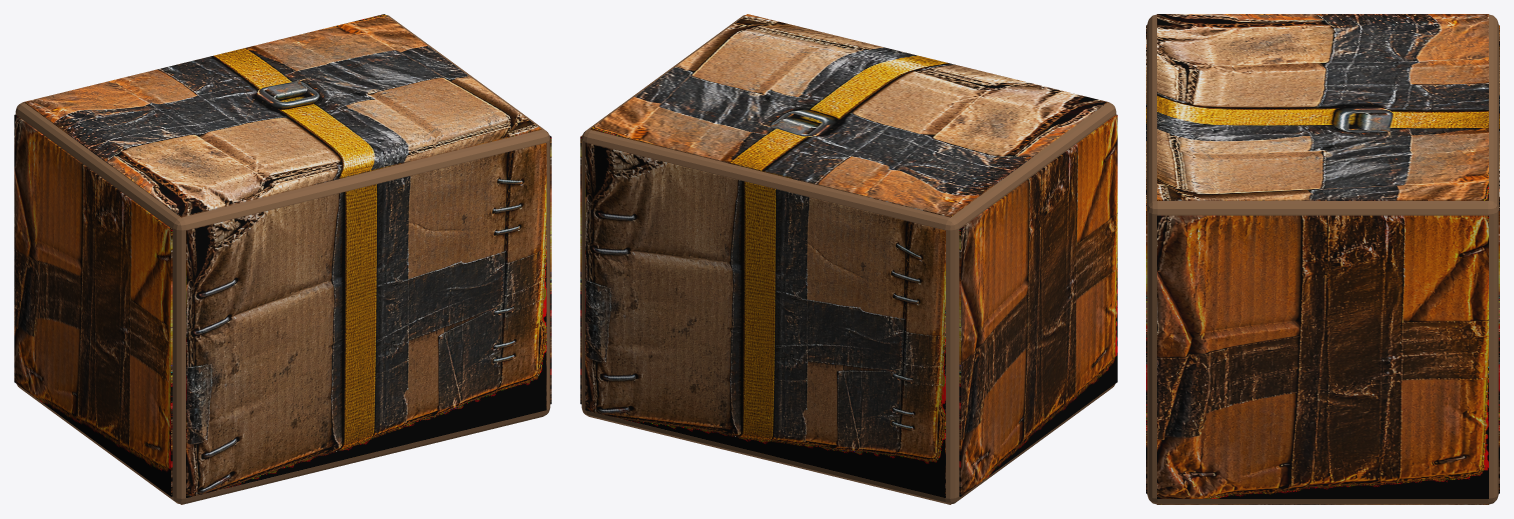
Rendered from colis-perdu-reference.glb.
3 views of the same model, side by side, from view 1: azimuth 30°, elevation 25°; view 2: azimuth 150°, elevation 25°; view 3: azimuth 270°, elevation 25° (orthographic). The views are drawn at different scales.
Parts seen in each view (by area): view 1: Façade photographique, Dessus photographique, Côté gauche, Volume complet du colis; view 2: Dos cohérent, Dessus photographique, Côté gauche, Volume complet du colis; view 3: Côté droit, Dessus photographique, Volume complet du colis, Dos cohérent, Façade photographique.
Boxes of the visible parts, box(x1,y1,x2,y2) form: Façade photographique: box(186, 143, 546, 497); Dessus photographique: box(24, 14, 541, 217); Côté gauche: box(14, 114, 172, 496); Volume complet du colis: box(15, 15, 550, 504); Dos cohérent: box(585, 143, 945, 497); Dessus photographique: box(590, 14, 1107, 217); Côté gauche: box(959, 114, 1117, 496); Volume complet du colis: box(581, 15, 1116, 504); Côté droit: box(1157, 215, 1488, 498); Dessus photographique: box(1157, 14, 1488, 200); Volume complet du colis: box(1147, 14, 1498, 504); Dos cohérent: box(1498, 25, 1499, 493); Façade photographique: box(1146, 25, 1147, 493).
Size of the model in its own units: 3.28 by 2.37 by 2.49.
4 materials, 3 textured.
